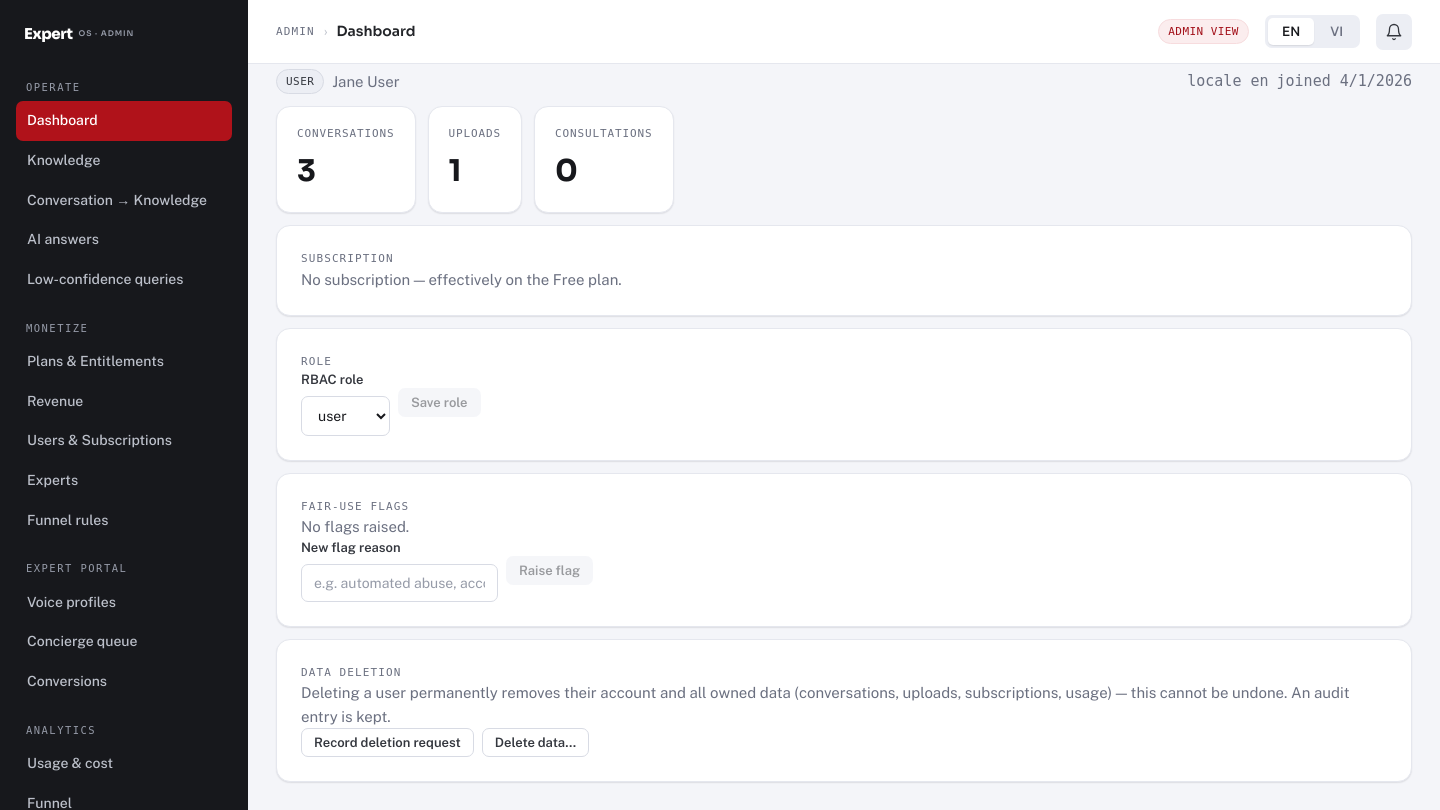
Test: UserDetailPage — data deletion › records a deletion request via POST
This screenshot has width=1440, height=810.
(page scrolled)
Expected: the heading "jane@example.com" is shown, [276, 7, 621, 45]
Click the button "Record deletion request" at (387, 742), box [301, 728, 474, 757]
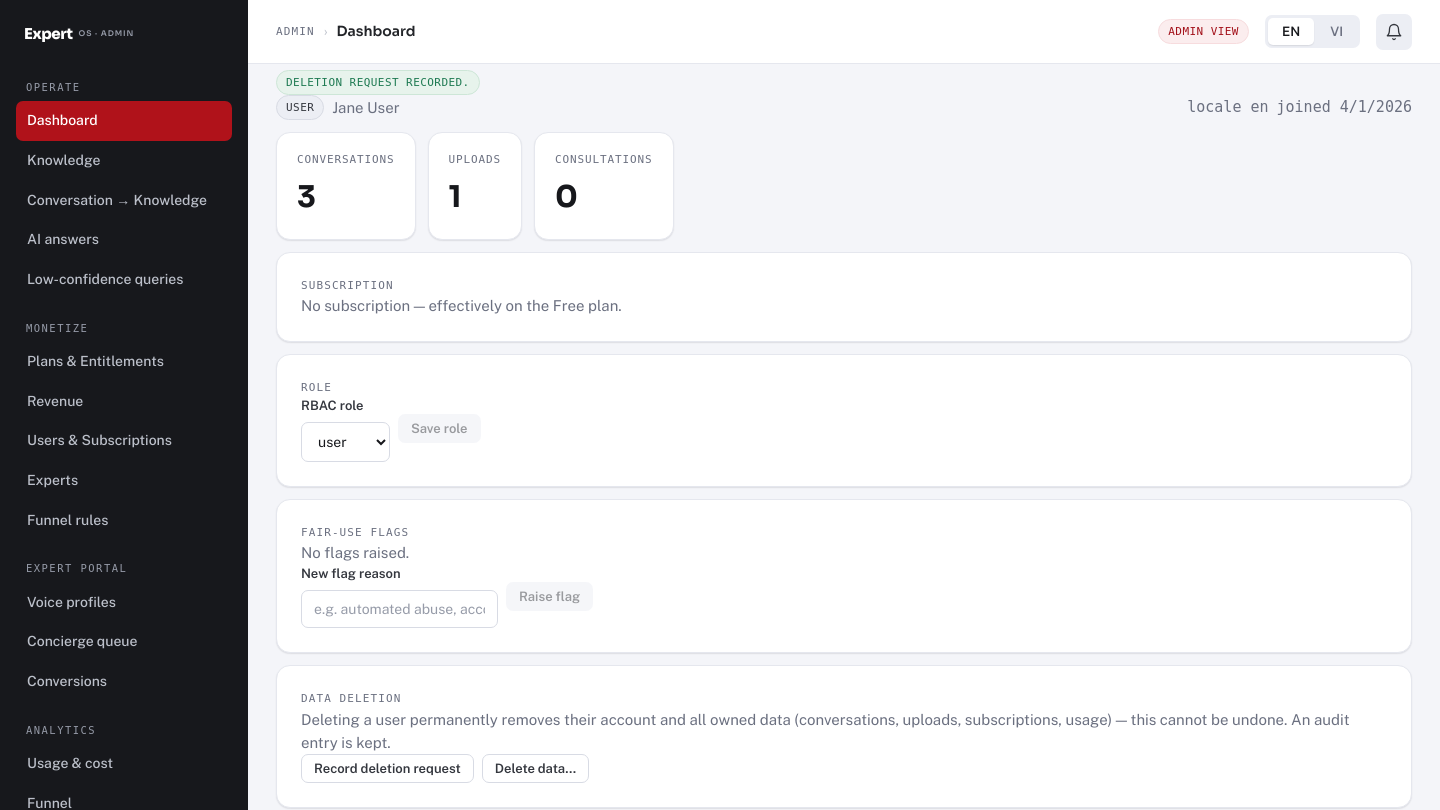
Result: the text "Deletion request recorded." is shown at [276, 70, 480, 95]
